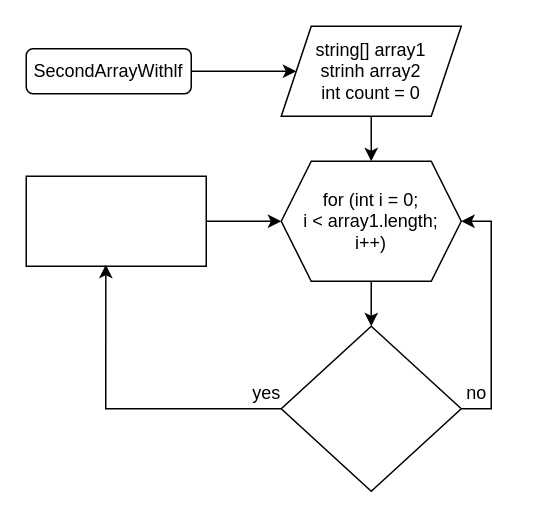
Some shapes in this 533 by 518 pixel diagram are drawn without their labels. The centre of each missing label's shape, as x and y in pixels:
array2[count] = array1[i] count++;: the point at 115,220
if (array 1[i].length <=3): the point at 370,408
